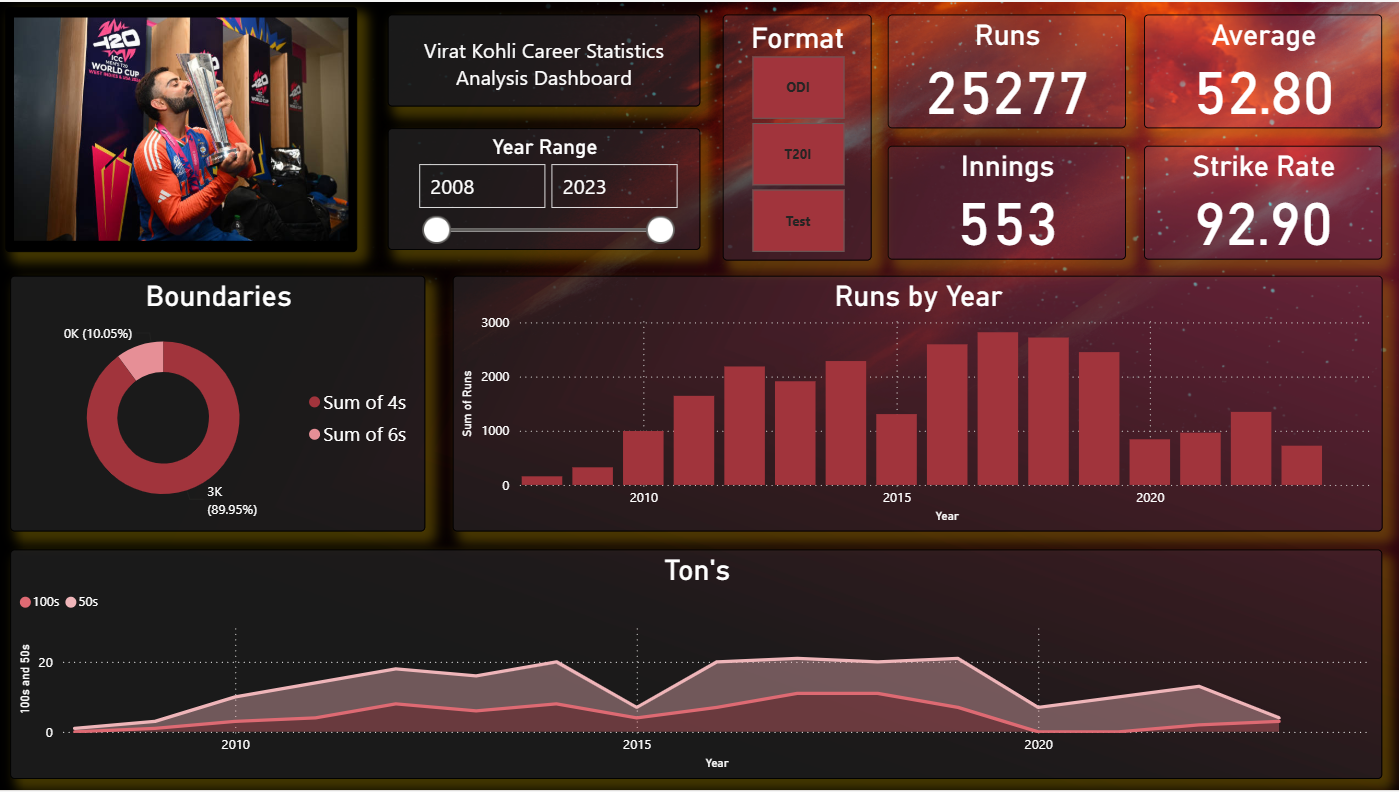

The page's visual inventory and layout, read from the dashboard file:
{"tool":"powerbi","page":{"name":"Page 1","canvas":[1280,720],"ordinal":0},"visuals":[{"type":"image","box":[5.8,4.3,321.7,223.6],"z":0},{"type":"textbox","box":[354.9,11.5,285.7,83.7],"z":1000},{"type":"card","title":"Innings","fields":{"Values":["Sum(Sheet1.Innings)"]},"box":[812.3,131.3,217.9,103.9],"z":1001},{"type":"card","title":"Runs","fields":{"Values":["Sum(Sheet1.Runs)"]},"box":[812.3,11.5,217.9,103.9],"z":1002},{"type":"card","title":"Average","fields":{"Values":["Avg(Sheet1.Avg)"]},"box":[1046,11.5,217.9,103.9],"z":1003},{"type":"card","title":"Strike Rate","fields":{"Values":["Avg(Sheet1.SR)"]},"box":[1046,131.3,217.9,103.9],"z":1004},{"type":"slicer","title":"Format","fields":{"Values":["Sheet1.Format"]},"box":[660.8,11.5,135.6,225.1],"z":1005},{"type":"slicer","title":"Year Range","fields":{"Values":["Sheet1.Year"]},"box":[354.9,115.4,285.7,111.1],"z":1006},{"type":"clusteredColumnChart","title":"Runs by Year","fields":{"Y":["Sum(Sheet1.Runs)"],"Category":["Sheet1.Year"]},"box":[414.1,249.6,849.8,233.7],"z":1007},{"type":"donutChart","title":"Boundaries","fields":{"Y":["Sum(Sheet1.4s)","Sum(Sheet1.6s)"]},"box":[10.1,249.6,379.4,233.7],"z":1008},{"type":"stackedAreaChart","title":"Ton''s","fields":{"Y":["Sum(Sheet1.100)","Sum(Sheet1.50)"],"Category":["Sheet1.Year"]},"box":[10.1,500.6,1253.8,209.2],"z":1009}]}

Visuals, with their boxes in screenshot pixels (x1, y1, x2, y2), scaled from the page's 1280x720 canvas onto the 1399x792 screenshot:
image: 6/5/358/251
textbox: 388/13/700/105
"Innings" card: 888/144/1126/259
"Runs" card: 888/13/1126/127
"Average" card: 1143/13/1381/127
"Strike Rate" card: 1143/144/1381/259
"Format" slicer: 722/13/870/260
"Year Range" slicer: 388/127/700/249
"Runs by Year" clusteredColumnChart: 453/275/1381/532
"Boundaries" donutChart: 11/275/426/532
"Ton''s" stackedAreaChart: 11/551/1381/781
